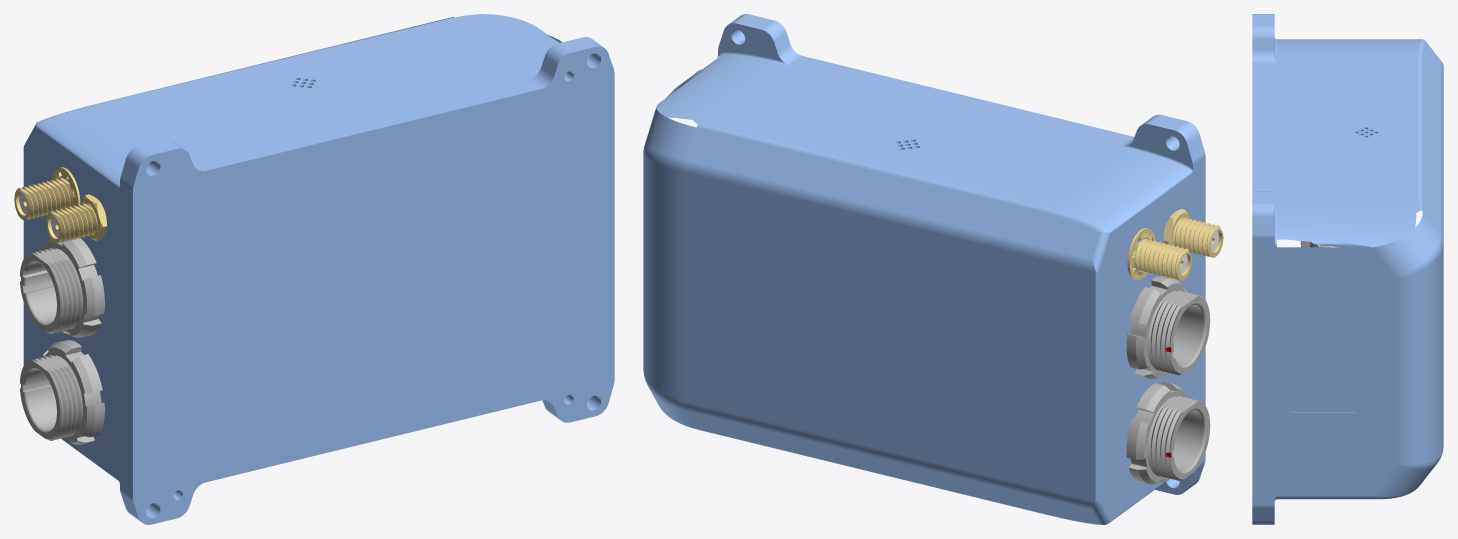
The model's file is certusevo.glb.
The picture shows the model from 3 angles, left to right: view 1: azimuth 30°, elevation 25°; view 2: azimuth 150°, elevation 25°; view 3: azimuth 270°, elevation 25°; orthographic projection. The views are drawn at different scales.
Bounding box in the file's own units: 0.1159 × 0.0777 × 0.042.
